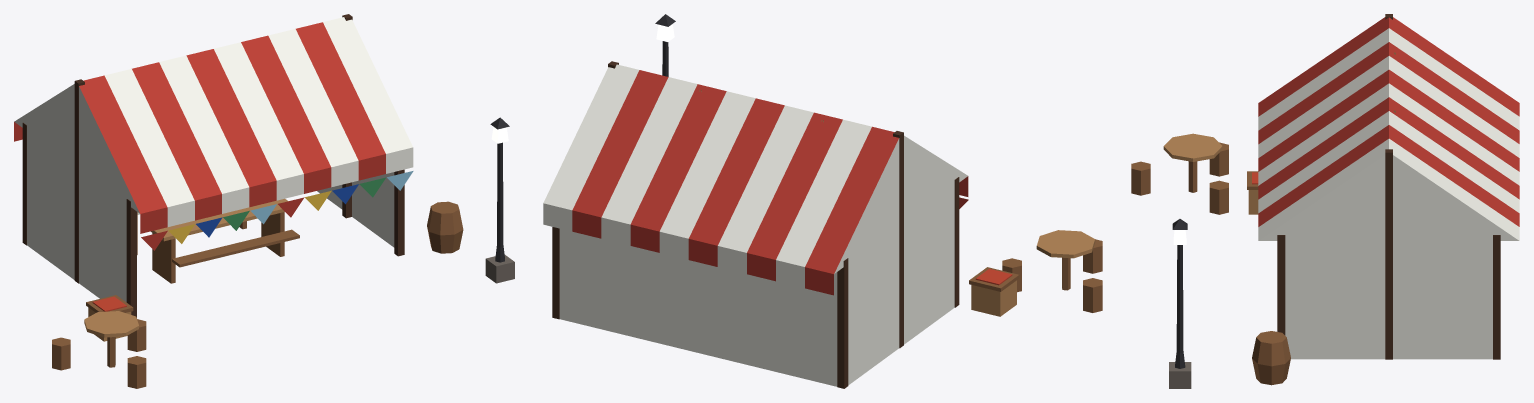
File: tent_festival.fbx
3 renders of one model, left to right at view 1: azimuth 30°, elevation 25°; view 2: azimuth 150°, elevation 25°; view 3: azimuth 270°, elevation 25°, orthographic. The views are drawn at different scales.
Parts seen in each view (by area): view 1: tent_festival; view 2: tent_festival; view 3: tent_festival.
Boxes of the visible parts, x1,y1,x2,y2 form: tent_festival: [14, 14, 514, 388]; tent_festival: [543, 14, 1102, 388]; tent_festival: [1131, 14, 1519, 388].
Size of the model in its own units: 8.03 by 3.5 by 5.95.
